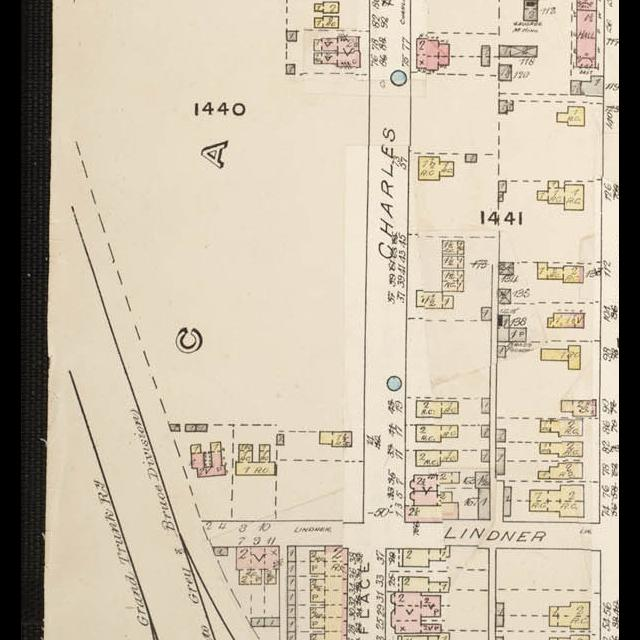building-footprints: (310, 546, 348, 640), (391, 591, 441, 632), (530, 485, 584, 517), (405, 490, 458, 522), (236, 546, 279, 584), (313, 36, 359, 67), (537, 181, 584, 210), (236, 444, 276, 474), (191, 442, 225, 475), (577, 10, 596, 67), (550, 602, 590, 629), (417, 38, 449, 70), (538, 262, 584, 282), (541, 345, 580, 368), (403, 548, 450, 567), (410, 472, 459, 490), (419, 156, 453, 179), (465, 488, 490, 519), (416, 424, 458, 442), (402, 576, 450, 591), (416, 401, 458, 417), (541, 419, 583, 435), (538, 463, 582, 478), (416, 450, 458, 465), (416, 291, 453, 308), (540, 442, 583, 456), (561, 400, 596, 416), (548, 313, 584, 327), (557, 107, 584, 125), (320, 431, 351, 446), (442, 270, 464, 291), (581, 76, 604, 95), (499, 45, 537, 56), (464, 472, 489, 488), (401, 632, 450, 640), (498, 314, 509, 341), (443, 240, 464, 254), (524, 0, 538, 20), (314, 2, 339, 13), (315, 16, 339, 27), (442, 256, 464, 268), (496, 447, 505, 474), (503, 487, 511, 516), (510, 328, 526, 341), (496, 602, 504, 626), (578, 0, 597, 10), (499, 100, 513, 113), (499, 65, 511, 80), (499, 262, 513, 274), (499, 289, 511, 303), (482, 46, 490, 66), (571, 80, 581, 94), (287, 617, 296, 632), (482, 307, 492, 320), (496, 429, 506, 441), (288, 546, 296, 561), (287, 590, 295, 605), (482, 398, 490, 412), (251, 618, 265, 626), (265, 618, 279, 626), (214, 547, 228, 555), (288, 562, 296, 576), (288, 576, 296, 590), (481, 425, 490, 437), (287, 31, 297, 41), (482, 450, 490, 462), (287, 605, 295, 617), (498, 345, 505, 357), (286, 64, 295, 73), (498, 181, 506, 191), (276, 435, 284, 445), (466, 154, 477, 161), (169, 424, 180, 431), (185, 424, 196, 431), (197, 424, 208, 431), (288, 632, 296, 640), (498, 192, 504, 201), (496, 636, 503, 640)
